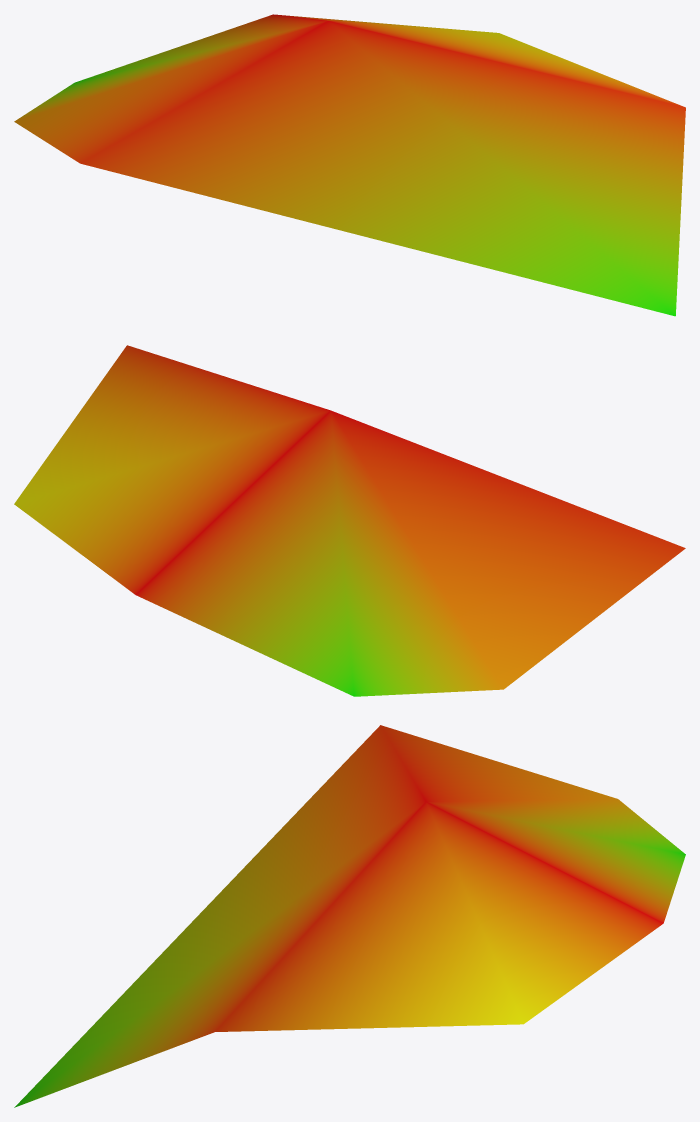
The model's file is Var7_LOD3.fbx.
3 renders of one model, top to bottom at view 1: azimuth 30°, elevation 25°; view 2: azimuth 150°, elevation 25°; view 3: azimuth 270°, elevation 25°, orthographic. The views are drawn at different scales.
Visible parts, largest first — view 1: _a6fe_Var7_LOD3; view 2: _a6fe_Var7_LOD3; view 3: _a6fe_Var7_LOD3.
Part boxes in pixels (bbox=[...]): _a6fe_Var7_LOD3: bbox=[14, 14, 685, 316]; _a6fe_Var7_LOD3: bbox=[14, 345, 685, 696]; _a6fe_Var7_LOD3: bbox=[14, 725, 685, 1107].
Size of the model in its own units: 37.52 by 13.4 by 37.19.
